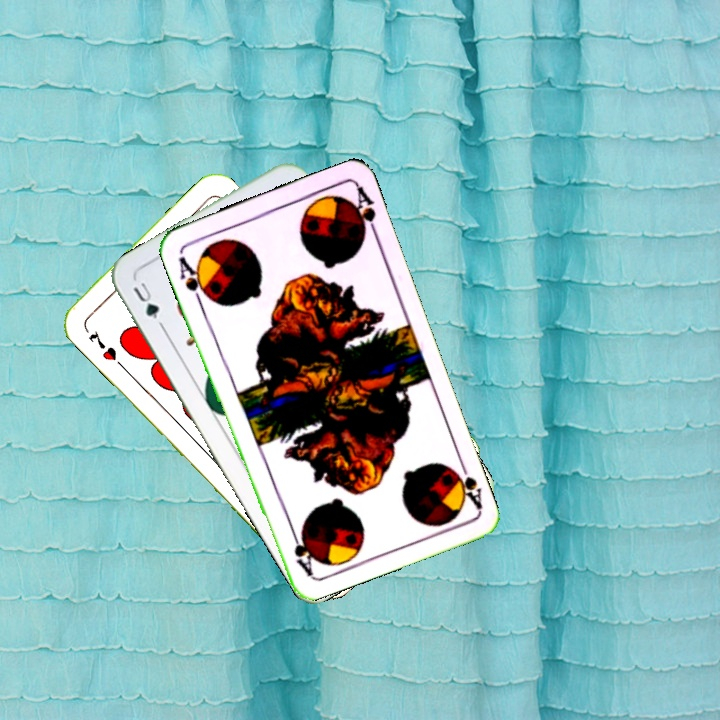GU: (128, 278, 162, 322)
H7: (84, 327, 119, 364)
SA: (444, 455, 485, 512), (174, 249, 213, 306)
